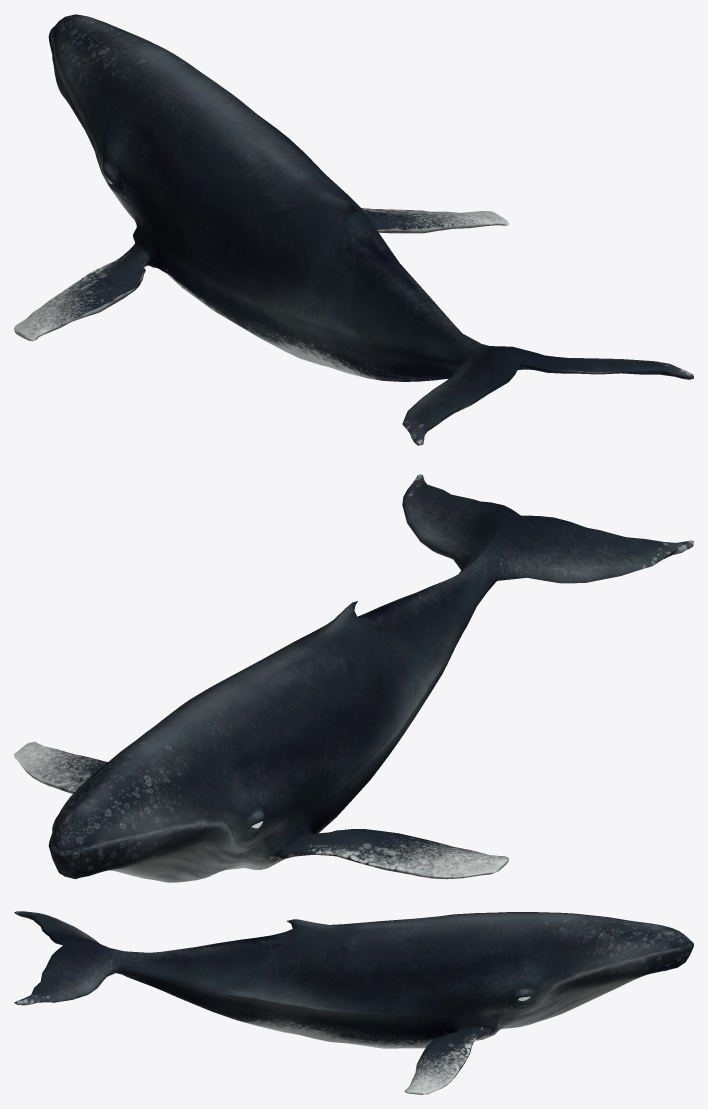
File: humpback_whale.glb
3 renders of one model, top to bottom at view 1: azimuth 30°, elevation 25°; view 2: azimuth 150°, elevation 25°; view 3: azimuth 270°, elevation 25°, orthographic. The views are drawn at different scales.
Visible parts, largest first — view 1: Object_2; view 2: Object_2; view 3: Object_2.
Part boxes in pixels (box(x1,y1,x2,y2)): Object_2: box(14, 14, 693, 445); Object_2: box(14, 474, 693, 882); Object_2: box(14, 911, 693, 1094).
Bounding box in the file's own units: 8.34 × 3.06 × 15.
Materials: 1 (1 with a texture image).
